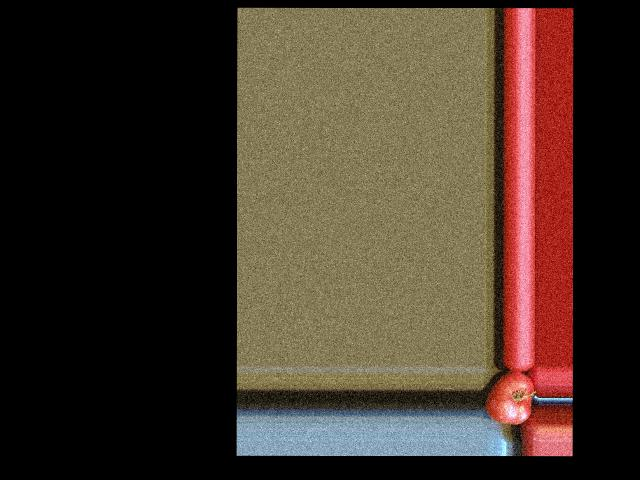tomato: (485, 371, 533, 424)
